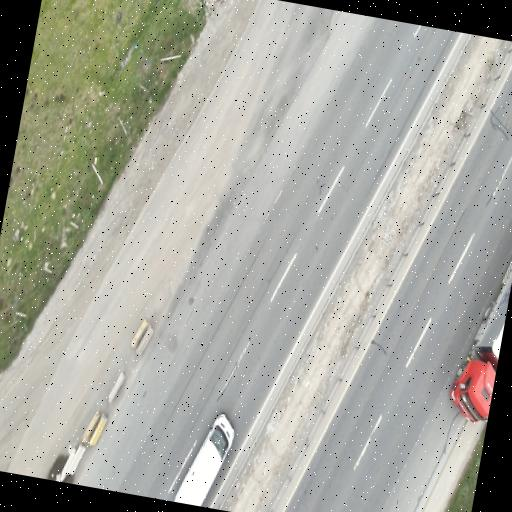car: (174, 414, 233, 505)
truck: (450, 261, 511, 422)
